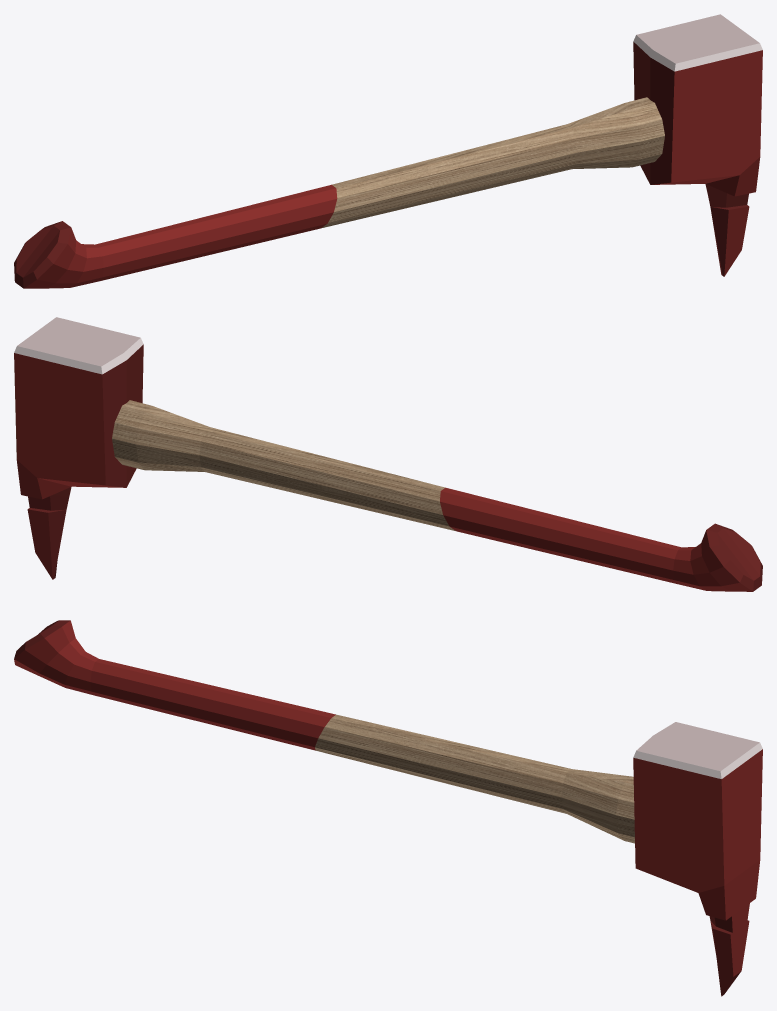
Rendered from EntryTool.fbx.
The picture shows the model from 3 angles, top to bottom: view 1: azimuth 30°, elevation 25°; view 2: azimuth 150°, elevation 25°; view 3: azimuth 330°, elevation 25°; orthographic projection.
Parts seen in each view (by area): view 1: ZomboidEntryTool; view 2: ZomboidEntryTool; view 3: ZomboidEntryTool.
Boxes of the visible parts, bbox=[...] form: ZomboidEntryTool: bbox=[14, 14, 762, 288]; ZomboidEntryTool: bbox=[14, 317, 762, 591]; ZomboidEntryTool: bbox=[14, 620, 762, 996].
Bounding box in the file's own units: 0.5681 × 0.1825 × 0.0563.
